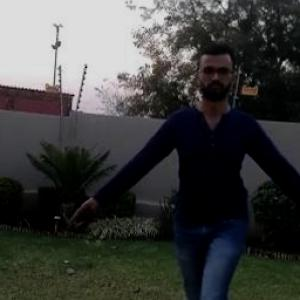land: (123, 70, 299, 299)
